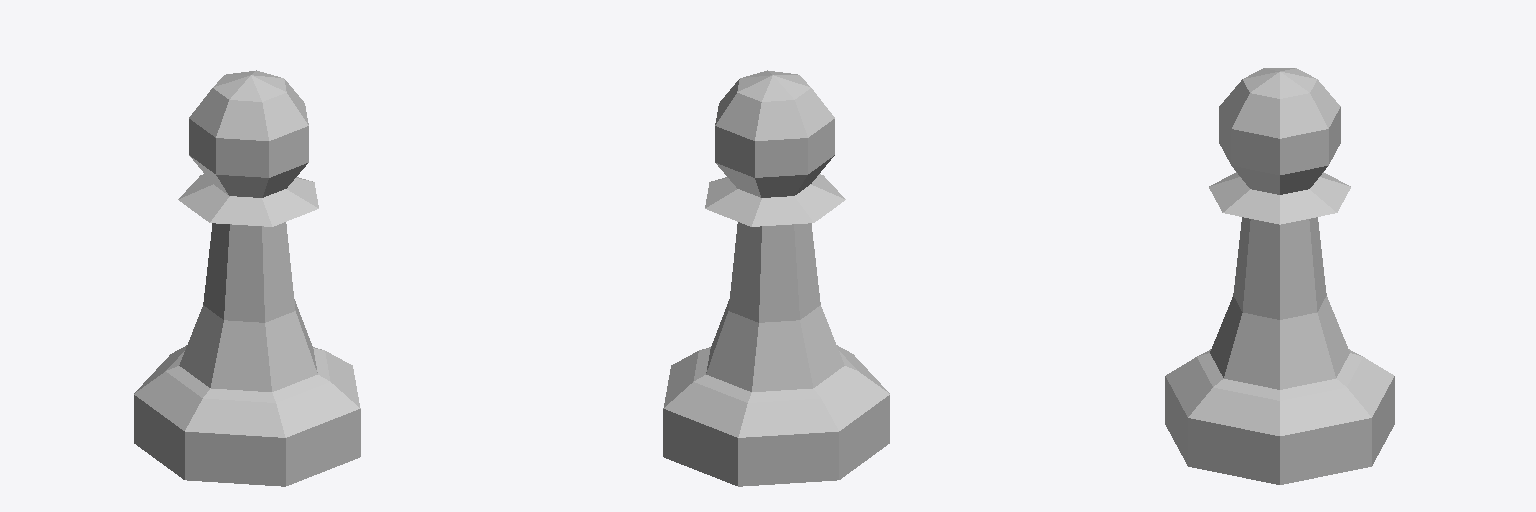
Rendered from ChessPawn_A__2.obj.
The picture shows the model from 3 angles: view 1: azimuth 30°, elevation 25°; view 2: azimuth 150°, elevation 25°; view 3: azimuth 270°, elevation 25°; orthographic projection.
Parts seen in each view (by area): view 1: Cylinder1, sphere2; view 2: Cylinder1, sphere2; view 3: Cylinder1, sphere2.
Part boxes in pixels (x1,y1,x2,y2): Cylinder1: (134,174,360,486); sphere2: (189,70,308,197); Cylinder1: (663,174,889,486); sphere2: (715,70,834,197); Cylinder1: (1165,172,1394,484); sphere2: (1219,68,1340,194).
Bounding box in the file's own units: 5.99 × 10.76 × 6.15.